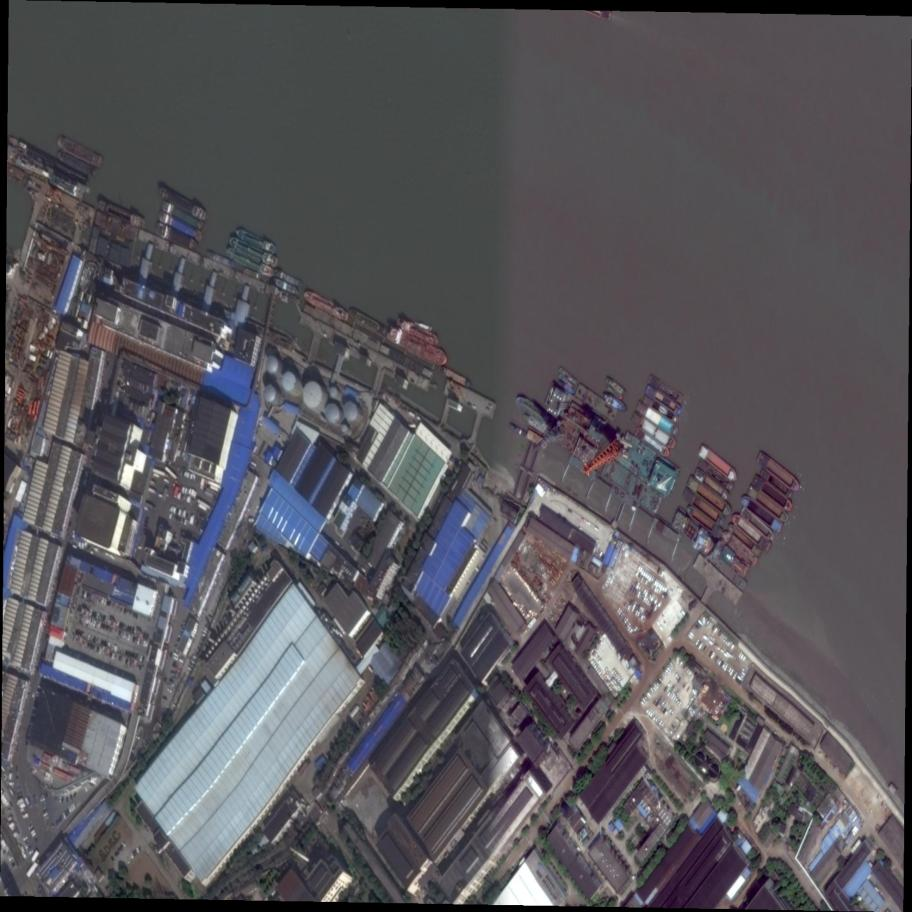ship: (1, 144, 89, 201), (6, 133, 90, 186), (666, 507, 722, 561), (384, 324, 452, 368), (753, 449, 805, 496), (683, 473, 735, 520), (627, 410, 680, 452), (157, 183, 211, 223), (737, 493, 787, 536), (729, 510, 776, 554), (694, 442, 742, 485), (680, 487, 729, 529), (633, 398, 682, 439), (512, 391, 561, 432), (54, 134, 108, 170), (718, 526, 762, 570), (706, 550, 751, 593), (750, 474, 797, 515), (745, 484, 792, 525), (300, 288, 353, 324), (227, 236, 281, 270), (223, 246, 277, 280), (155, 210, 207, 245), (95, 198, 150, 231), (711, 537, 754, 579), (158, 199, 208, 234), (684, 502, 726, 541), (153, 221, 203, 253), (726, 521, 767, 559), (632, 425, 674, 462), (643, 383, 686, 418), (395, 315, 443, 346), (233, 226, 281, 257), (346, 306, 391, 338), (757, 466, 797, 502), (692, 467, 732, 503), (697, 458, 737, 494), (646, 373, 688, 407), (739, 506, 777, 543), (54, 150, 100, 179), (641, 393, 682, 425), (598, 388, 631, 416), (437, 365, 473, 389), (270, 276, 302, 297), (273, 269, 306, 289), (604, 376, 628, 398), (557, 366, 579, 387), (556, 379, 576, 396), (605, 384, 624, 401), (557, 373, 576, 390)
storage-tank: (303, 380, 323, 408), (325, 404, 341, 424), (343, 401, 358, 421), (283, 372, 296, 391), (267, 355, 279, 374), (264, 385, 276, 402), (329, 387, 338, 398), (341, 424, 347, 432)
